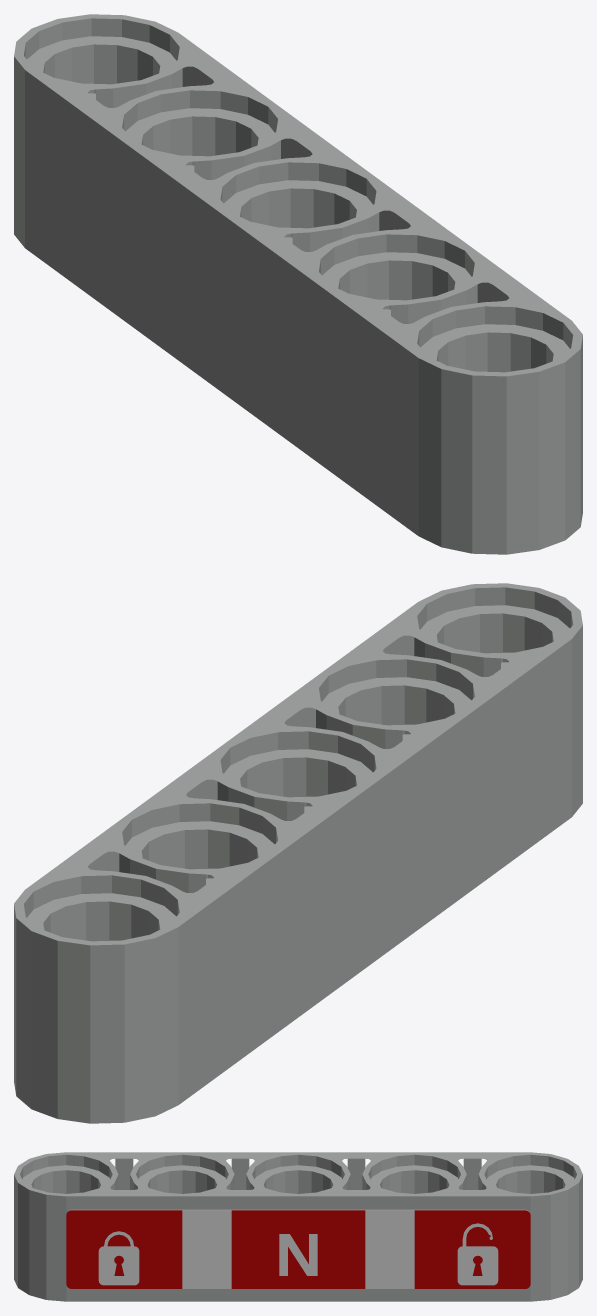
3 views of the same model, one above another, from view 1: azimuth 30°, elevation 25°; view 2: azimuth 150°, elevation 25°; view 3: azimuth 270°, elevation 25° (orthographic). The views are drawn at different scales.
Parts seen in each view (by area): view 1: world; view 2: world; view 3: world.
Part boxes in pixels (x1=…): world: x1=14, y1=14, x2=582, y2=554; world: x1=14, y1=583, x2=582, y2=1123; world: x1=14, y1=1152, x2=582, y2=1301.
Size of the model in its own units: 0.0073 by 0.008 by 0.0392.
